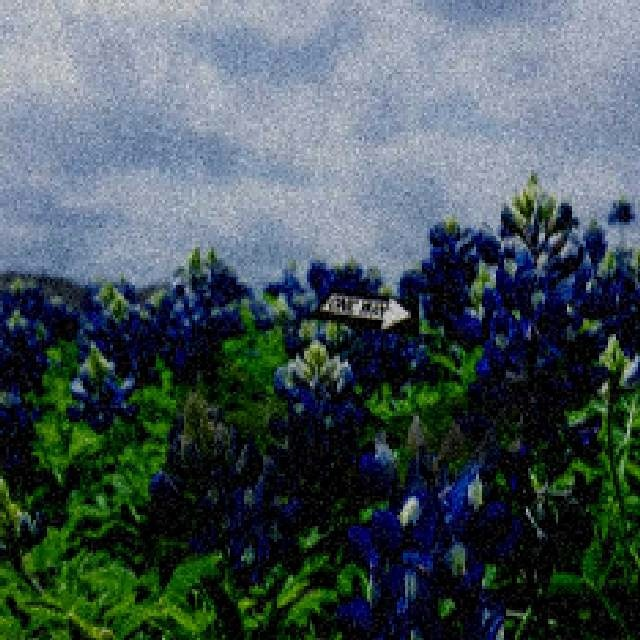ONE_WAY_ right: (305, 283, 418, 333)
